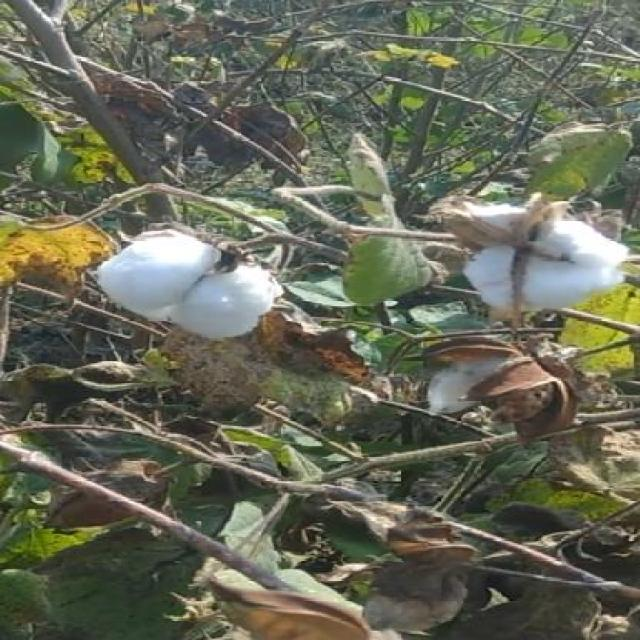cotton_ready: (418, 199, 639, 341), (86, 234, 316, 363)
